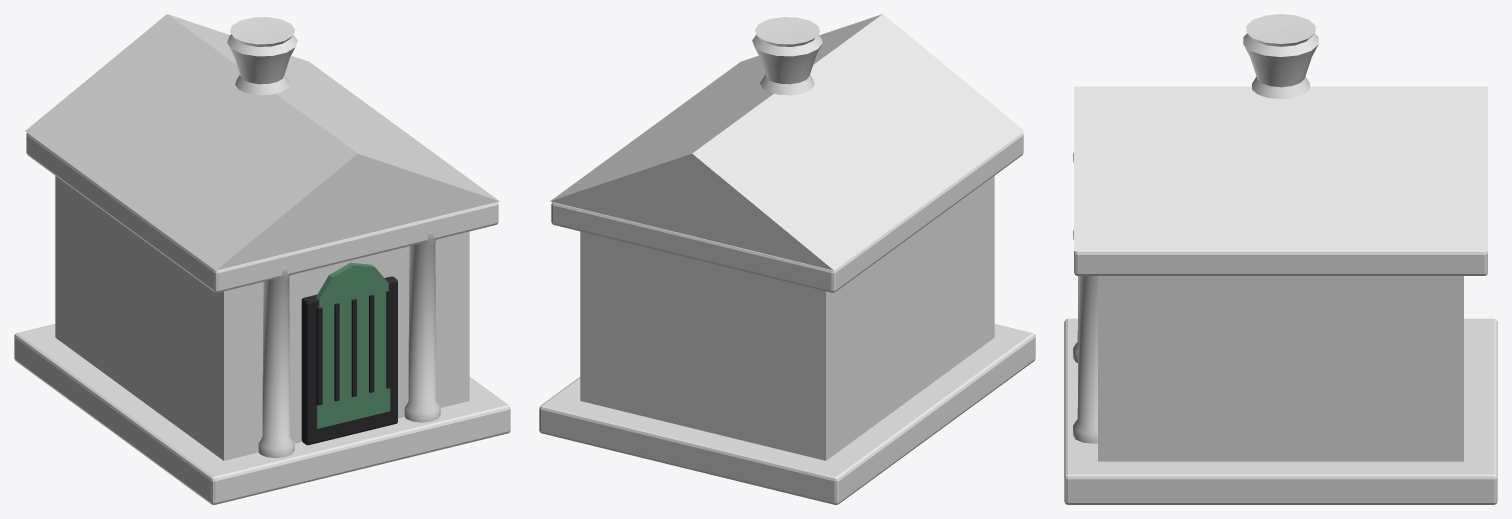
File: haunt_crypt.fbx
The picture shows the model from 3 angles, left to right: view 1: azimuth 30°, elevation 25°; view 2: azimuth 150°, elevation 25°; view 3: azimuth 270°, elevation 25°; orthographic projection. The views are drawn at different scales.
Parts seen in each view (by area): view 1: grime_1, stonedark_1, marble_1, window_1, iron_1; view 2: grime_1, stonedark_1, marble_1; view 3: grime_1, stonedark_1, marble_1.
Part boxes in pixels (box(x1,y1,x2,y2)): grime_1: box(14, 176, 510, 504); stonedark_1: box(25, 14, 499, 270); marble_1: box(26, 17, 498, 458); window_1: box(316, 262, 390, 428); iron_1: box(301, 276, 397, 445); grime_1: box(539, 176, 1035, 504); stonedark_1: box(550, 14, 1024, 270); marble_1: box(551, 17, 1023, 292); grime_1: box(1064, 276, 1497, 504); stonedark_1: box(1074, 86, 1487, 251); marble_1: box(1073, 14, 1487, 443).
Bounding box in the file's own units: 0.78 × 0.912 × 0.9.
